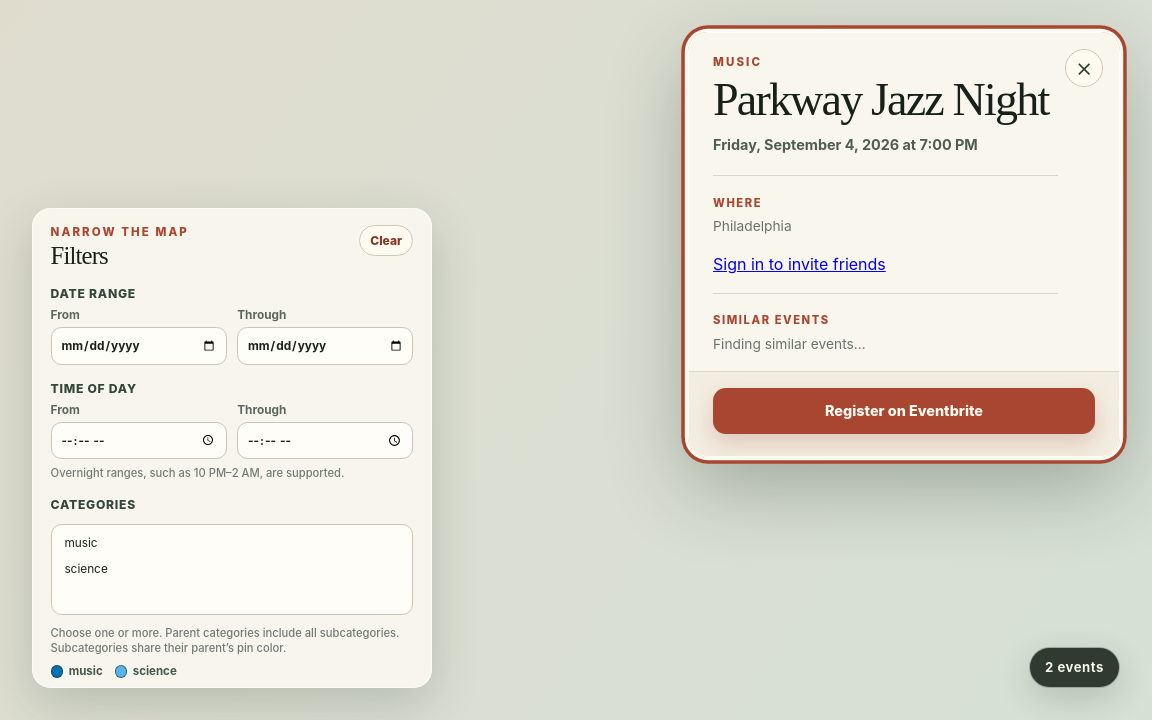
Test: clears old pins and details on an unavailable changed request
Expected: the text "2 events" is shown, top-left (1029, 647), bottom-right (1120, 688)
Type "22:00" into the time field labelled "From" at [139, 441], box top-left (51, 422), bottom-right (227, 459)
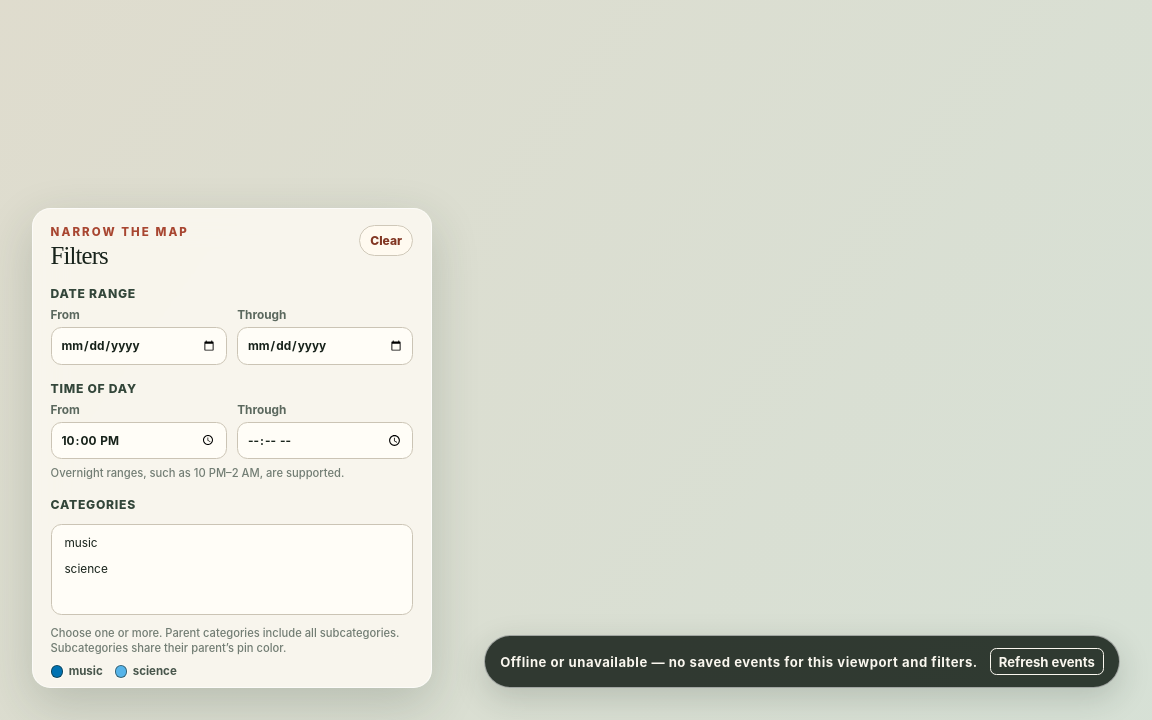
Expected: the message does not show "0 events", top-left (484, 635), bottom-right (1120, 688)
Expected: the text "no saved events for this viewport and filters" is shown, top-left (500, 654), bottom-right (978, 670)
Expected: the dialog is gone
